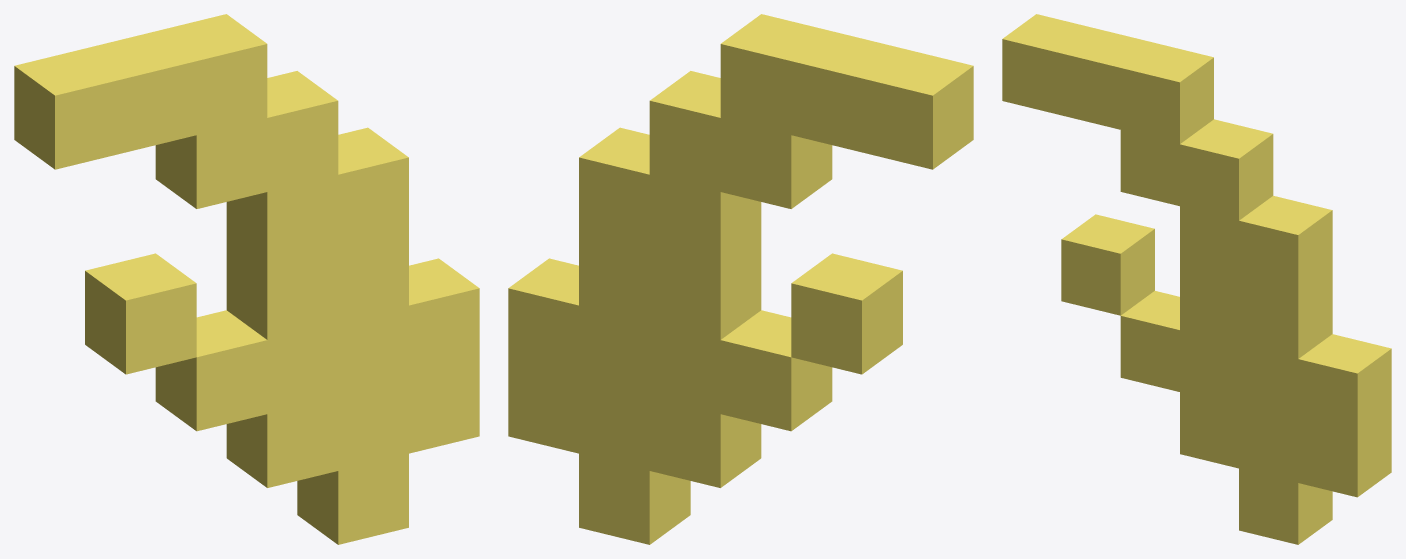
File: Gauntlet-Yellow.vox.obj
3 renders of one model, left to right at view 1: azimuth 30°, elevation 25°; view 2: azimuth 150°, elevation 25°; view 3: azimuth 330°, elevation 25°, orthographic. The views are drawn at different scales.
Bounding box in the file's own units: 0.6 × 0.7 × 0.1.
Materials: 1 (1 with a texture image).
